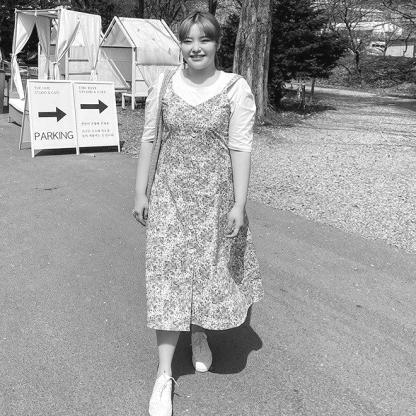dress: (143, 60, 274, 336)
